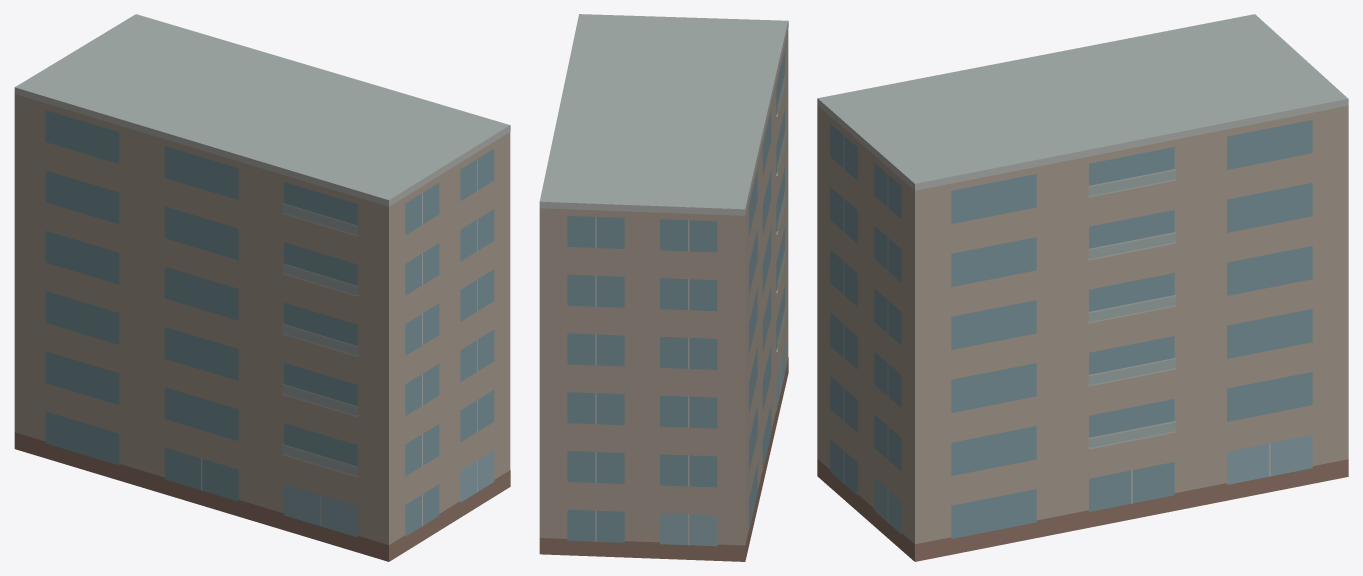
Rendered from survey-upis-32892651.glb.
3 renders of one model, left to right at view 1: azimuth 30°, elevation 25°; view 2: azimuth 150°, elevation 25°; view 3: azimuth 270°, elevation 25°, orthographic. The views are drawn at different scales.
Visible parts, largest first — view 1: survey-upis-32892651.tmp; view 2: survey-upis-32892651.tmp; view 3: survey-upis-32892651.tmp.
Boxes of the visible parts, x1,y1,x2,y2 form: survey-upis-32892651.tmp: [14, 14, 510, 561]; survey-upis-32892651.tmp: [539, 14, 788, 561]; survey-upis-32892651.tmp: [817, 14, 1348, 561].
Bounding box in the file's own units: 12.93 × 13.4 × 17.07.
